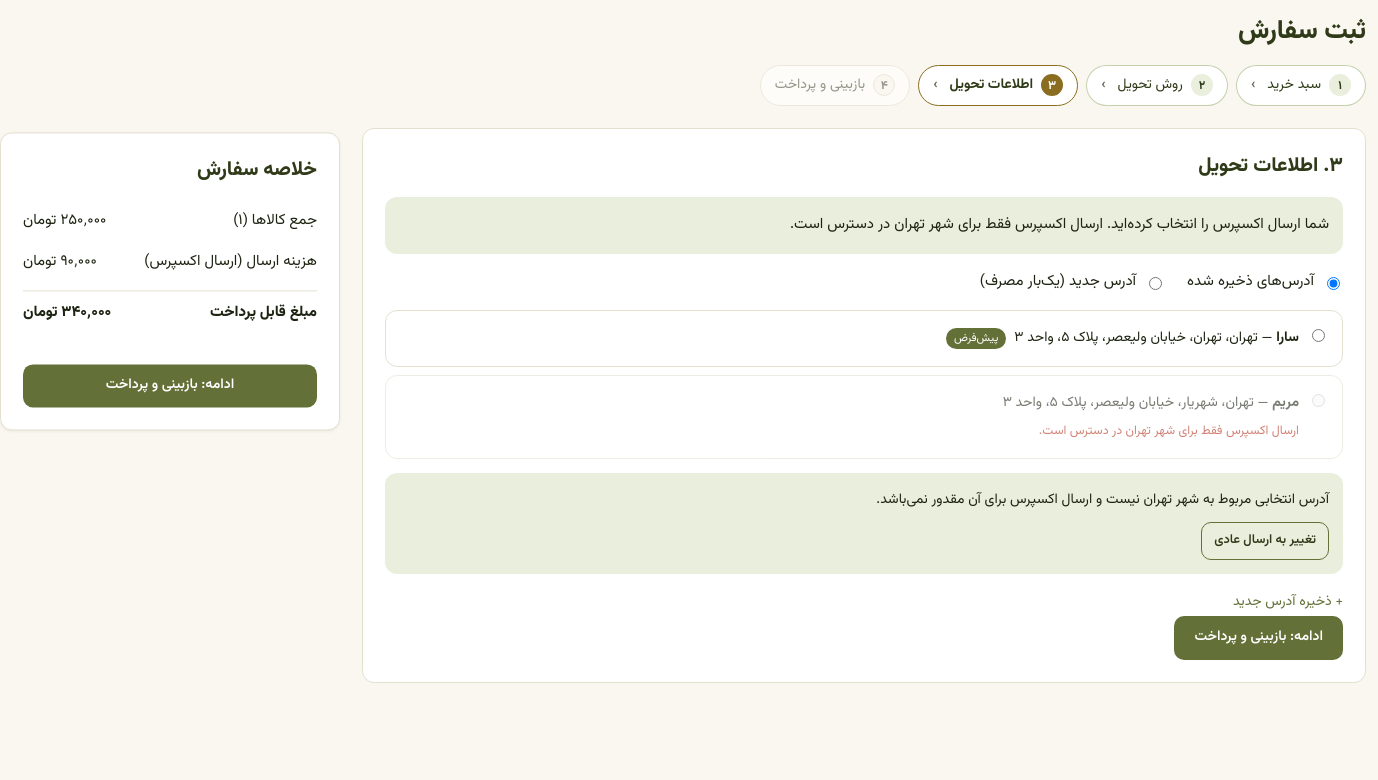
Scenario: Tehran-city-only express checkout (Task 2) › offers to switch to standard delivery when non-Tehran address is selected
The image size is (1378, 780).
Expected: the heading "۳. اطلاعات تحویل" is shown, [1198,150,1343,182]
Expected: the text "ارسال اکسپرس برای آن مقدور نمی‌باشد" is shown, [876,489,1329,511]
Click the button "تغییر به ارسال عادی" at (1265, 541), box [1201,522,1329,560]
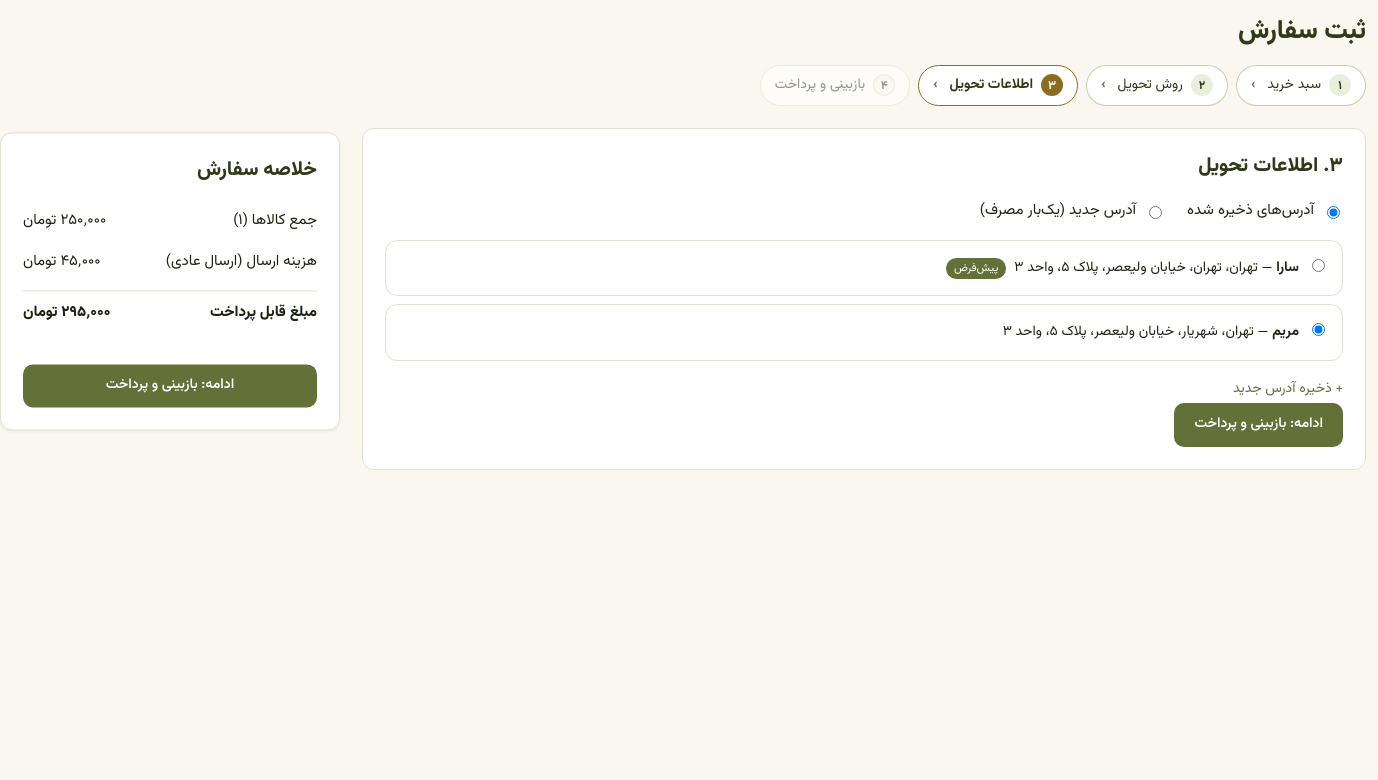
Expected: the radio button labelled "مریم — تهران، شهریار، خیابان ولیعصر، پلاک ۵، واحد ۳" is enabled, [1312,323,1325,336]
